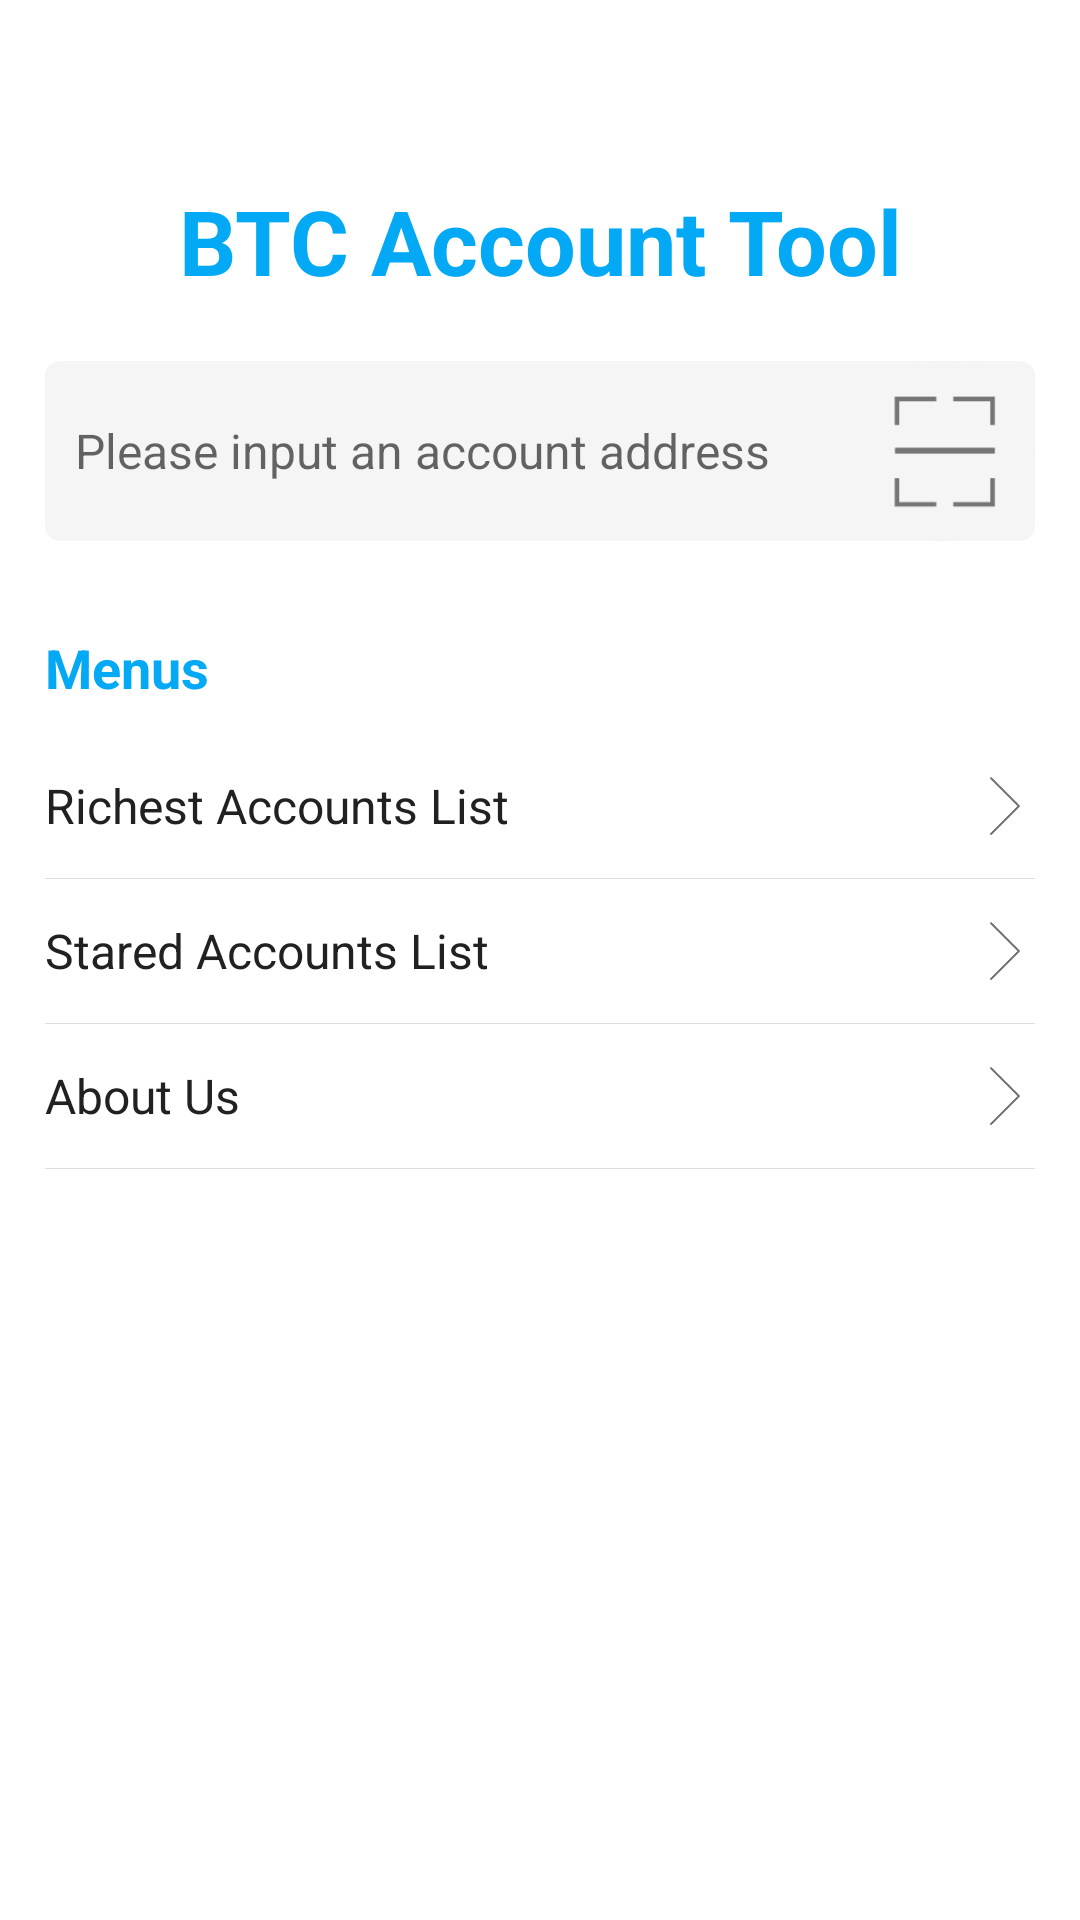

Named icons in this screenshot (1080×1920) and their centers, (x=x, y=y):
right arrow: (x=1005, y=806), (x=1005, y=951), (x=1005, y=1096)
